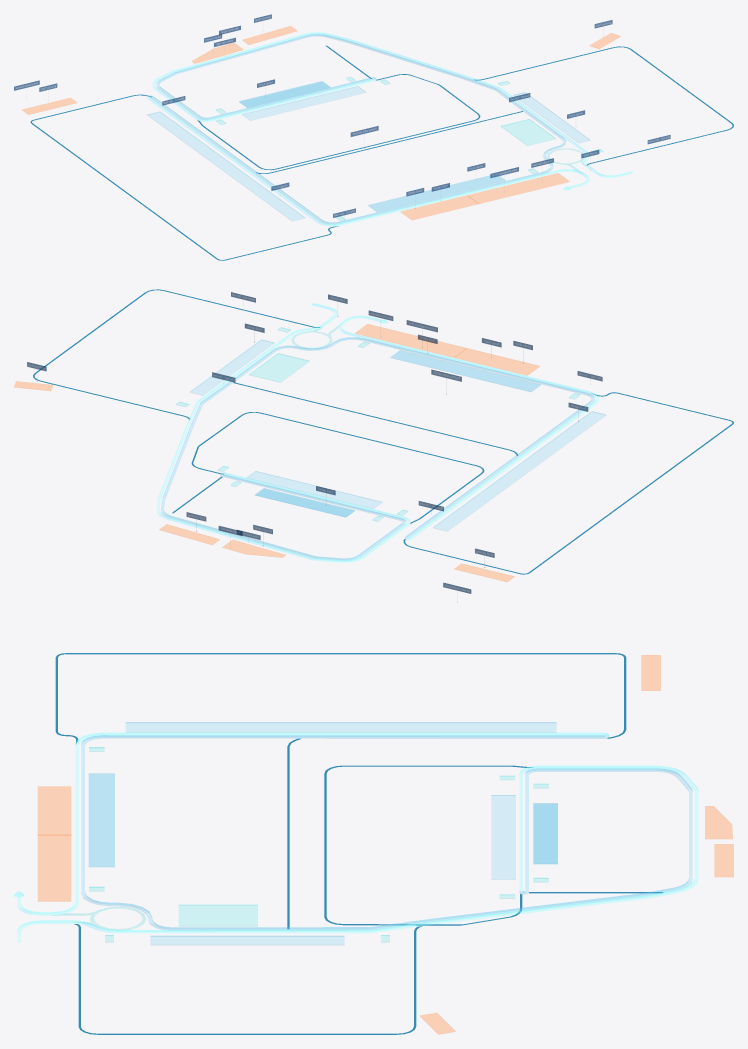
Rendered from 04_Ammenities_Overlay_R1.glb.
The picture shows the model from 3 angles, top to bottom: view 1: azimuth 30°, elevation 25°; view 2: azimuth 150°, elevation 25°; view 3: azimuth 270°, elevation 25°; orthographic projection. The views are drawn at different scales.
Parts seen in each view (by area): view 1: SM_INFO_MainRoadLines, SM_INFO_ServiceRoadLine, SM_INFO_PARKING_B300, SM_INFO_PARKING_B100, SM_INFO_AMENITIES_02, Car_Parking, SM_INFO_PARKING_B400, SM_INFO_AMENITIES_01, SM_INFO_PARKING_B200, SM_INFO_PARKING_B500, Truck_parking.004, SM_INFO_AMENITIES_04.001; view 2: SM_INFO_MainRoadLines, SM_INFO_ServiceRoadLine, SM_INFO_PARKING_B300, SM_INFO_PARKING_B100, Car_Parking, SM_INFO_AMENITIES_02, SM_INFO_PARKING_B400, SM_INFO_AMENITIES_01, SM_INFO_PARKING_B200, SM_INFO_PARKING_B500, Truck_parking.004; view 3: SM_INFO_MainRoadLines, SM_INFO_ServiceRoadLine, SM_INFO_PARKING_B300, SM_INFO_PARKING_B100, Car_Parking, SM_INFO_AMENITIES_02, SM_INFO_PARKING_B400, SM_INFO_PARKING_B200, SM_INFO_AMENITIES_01, SM_INFO_PARKING_B500, Truck_parking.004, SM_INFO_AMENITIES_04.001 (+2 smaller).
Boxes of the visible parts, x1,y1,x2,y2 form: SM_INFO_MainRoadLines: (147, 32, 632, 226); SM_INFO_ServiceRoadLine: (30, 45, 733, 260); SM_INFO_PARKING_B300: (147, 111, 304, 220); SM_INFO_PARKING_B100: (368, 175, 505, 211); SM_INFO_AMENITIES_02: (468, 173, 569, 203); Car_Parking: (216, 77, 602, 220); SM_INFO_PARKING_B400: (242, 86, 365, 120); SM_INFO_AMENITIES_01: (401, 195, 478, 219); SM_INFO_PARKING_B200: (513, 92, 590, 142); SM_INFO_PARKING_B500: (239, 81, 330, 107); Truck_parking.004: (240, 82, 328, 107); SM_INFO_AMENITIES_04.001: (192, 43, 242, 63); SM_INFO_MainRoadLines: (157, 303, 598, 562); SM_INFO_ServiceRoadLine: (33, 289, 733, 574); SM_INFO_PARKING_B300: (433, 411, 605, 530); SM_INFO_PARKING_B100: (390, 350, 540, 391); Car_Parking: (176, 327, 579, 521); SM_INFO_AMENITIES_02: (355, 324, 466, 357); SM_INFO_PARKING_B400: (247, 471, 382, 508); SM_INFO_AMENITIES_01: (454, 348, 539, 375); SM_INFO_PARKING_B200: (190, 339, 273, 395); SM_INFO_PARKING_B500: (255, 488, 354, 517); Truck_parking.004: (257, 489, 353, 516); SM_INFO_MainRoadLines: (14, 733, 698, 942); SM_INFO_ServiceRoadLine: (55, 653, 663, 1034); SM_INFO_PARKING_B300: (126, 722, 556, 732); SM_INFO_PARKING_B100: (89, 773, 114, 866); Car_Parking: (89, 747, 548, 942); SM_INFO_AMENITIES_02: (38, 835, 70, 901); SM_INFO_PARKING_B400: (491, 795, 515, 879); SM_INFO_PARKING_B200: (150, 936, 344, 944); SM_INFO_AMENITIES_01: (38, 786, 70, 835); SM_INFO_PARKING_B500: (533, 803, 557, 863); Truck_parking.004: (534, 804, 557, 863); SM_INFO_AMENITIES_04.001: (705, 806, 732, 838).
Bounding box in the file's own units: 30.97 × 2.71 × 24.56.
Materials: 8 (1 with a texture image).
